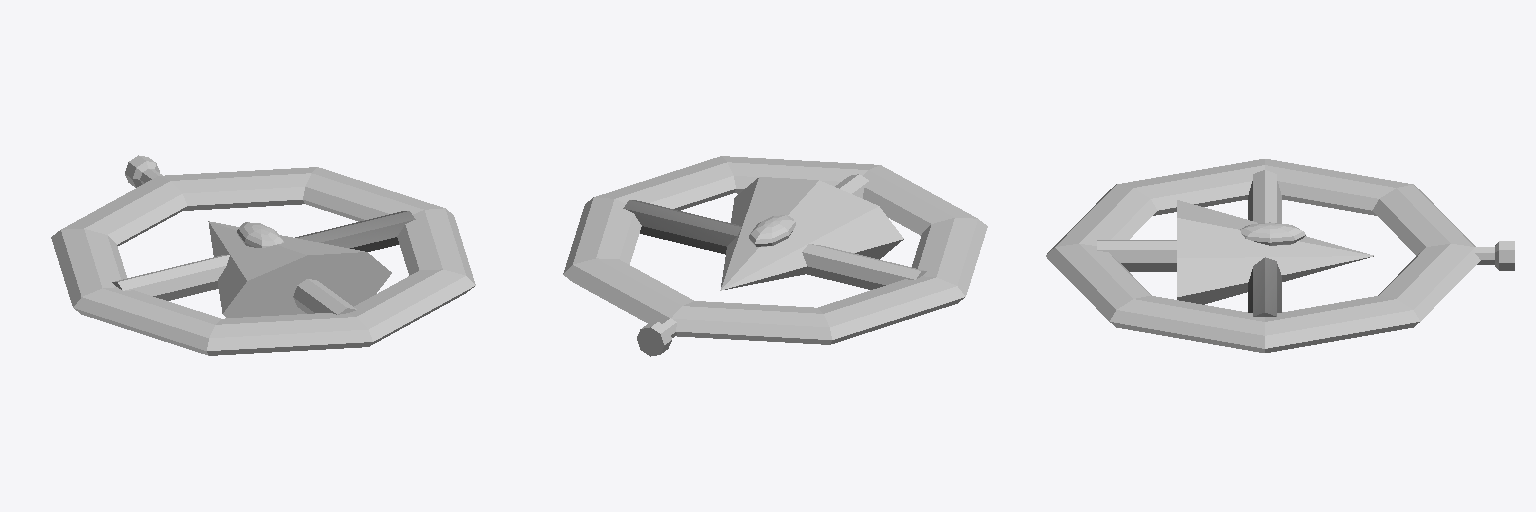
3 renders of one model, left to right at view 1: azimuth 30°, elevation 25°; view 2: azimuth 150°, elevation 25°; view 3: azimuth 270°, elevation 25°, orthographic.
Parts seen in each view (by area): view 1: polymsh; view 2: polymsh; view 3: polymsh.
Part boxes in pixels (bbox=[...]): polymsh: bbox=[51, 155, 475, 355]; polymsh: bbox=[563, 156, 987, 356]; polymsh: bbox=[1046, 159, 1514, 352].
Bounding box in the file's own units: 8.88 × 1.7 × 9.49.
7 materials, 1 textured.